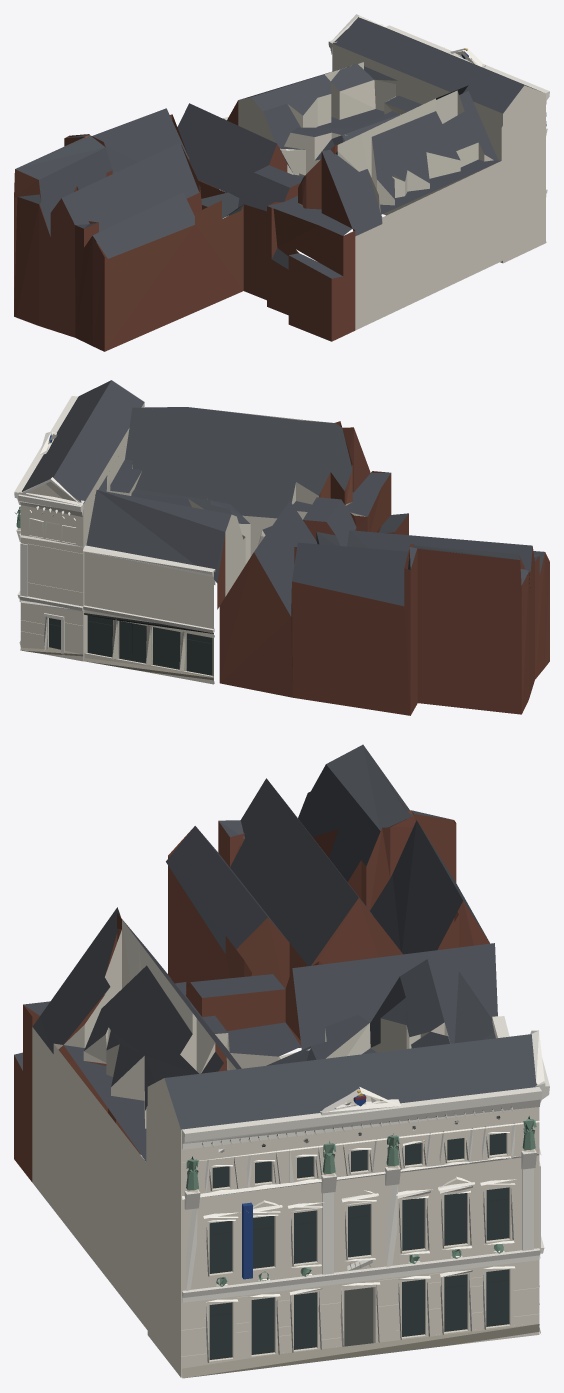
File: arti-et-amicitiae.lod1.glb
The picture shows the model from 3 angles, top to bottom: view 1: azimuth 30°, elevation 25°; view 2: azimuth 150°, elevation 25°; view 3: azimuth 270°, elevation 25°; orthographic projection. The views are drawn at different scales.
Parts seen in each view (by area): view 1: arti-et-amicitiae; view 2: arti-et-amicitiae; view 3: arti-et-amicitiae.
Boxes of the visible parts, x1=… form: arti-et-amicitiae: x1=14, y1=14, x2=549, y2=351; arti-et-amicitiae: x1=14, y1=380, x2=549, y2=715; arti-et-amicitiae: x1=14, y1=744, x2=549, y2=1378.
Bounding box in the file's own units: 52.58 × 17.7 × 30.54.
